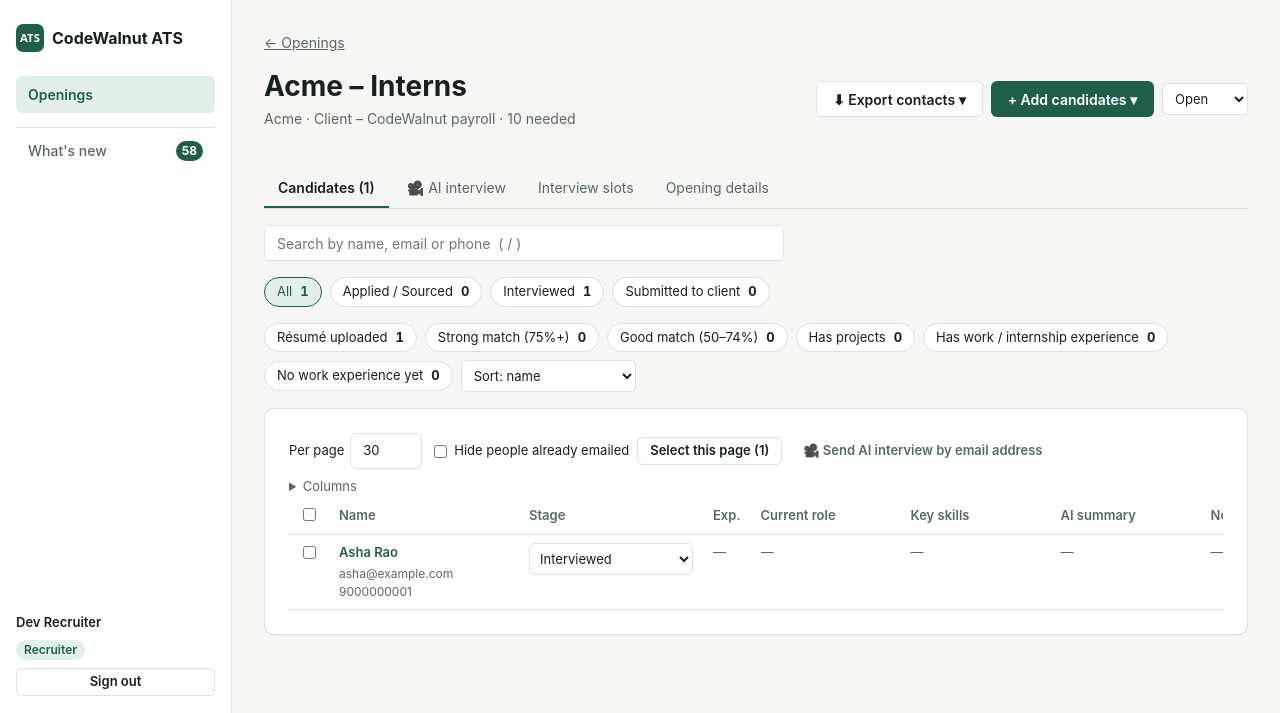
it: JobDetailPage › offers to email the candidate after a stage change, with the matching template
This screenshot has width=1280, height=713.
Select "Rejected" in the dropdown named "Stage for Asha Rao" at (611, 559), box [529,543,693,575]
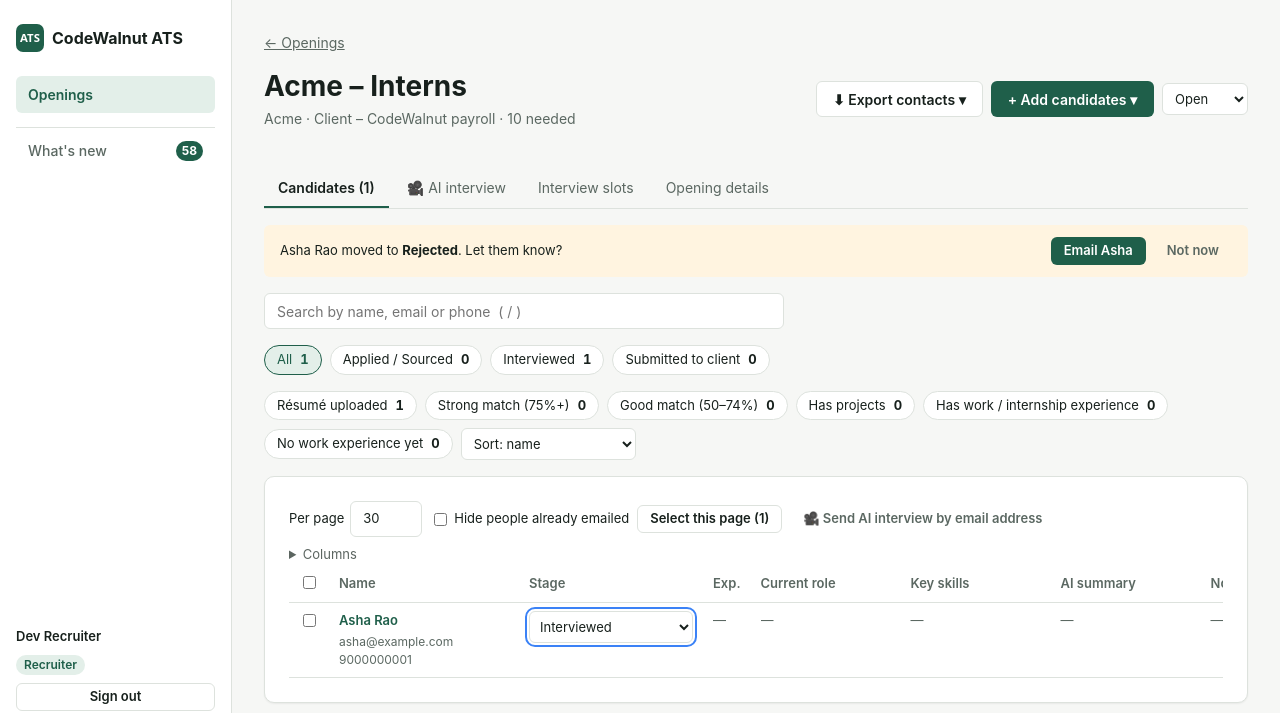
expect the text "Asha Rao moved to Rejected. Let them know?" is shown: met, box [280,241,562,261]
Click the button "Email Asha".
click(1098, 251)  # box [1051,237,1146,265]
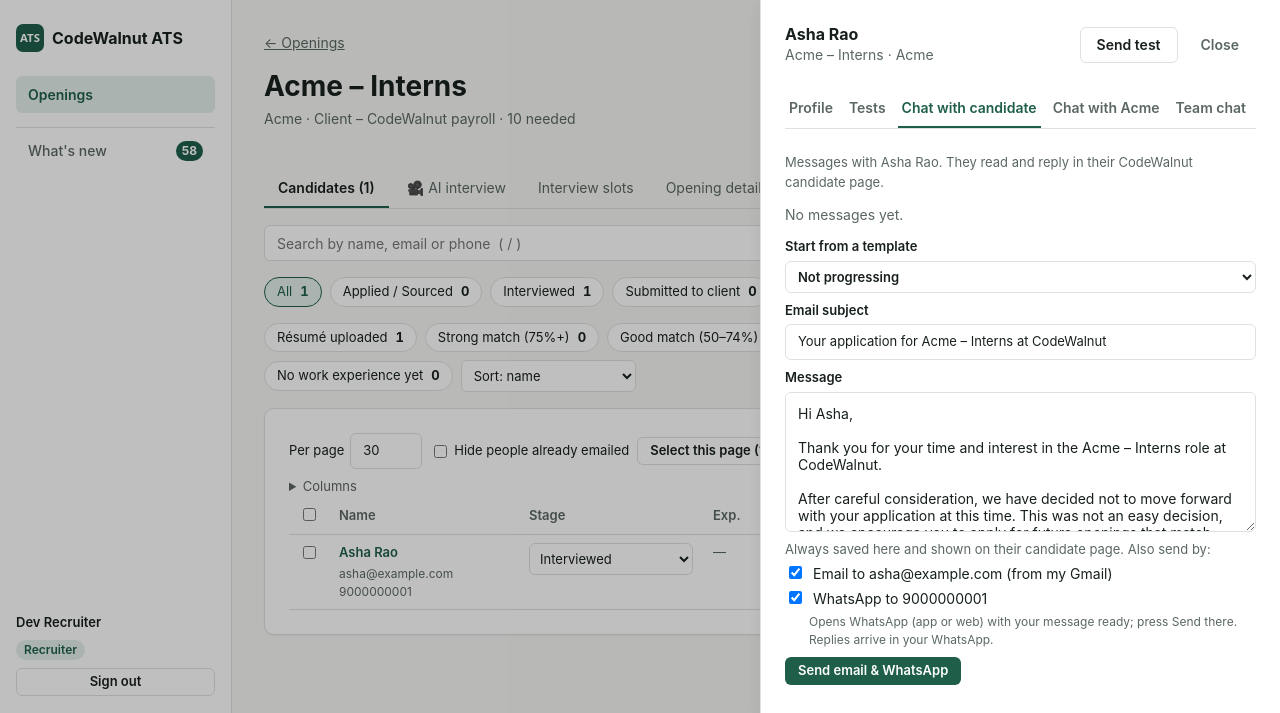
expect the field labelled "Email subject" holds "Your application for Acme – Interns at CodeWalnut": met, box [785,324,1256,360]
Click the button "Send email & WhatsApp".
click(873, 671)  # box [785,657,961,685]
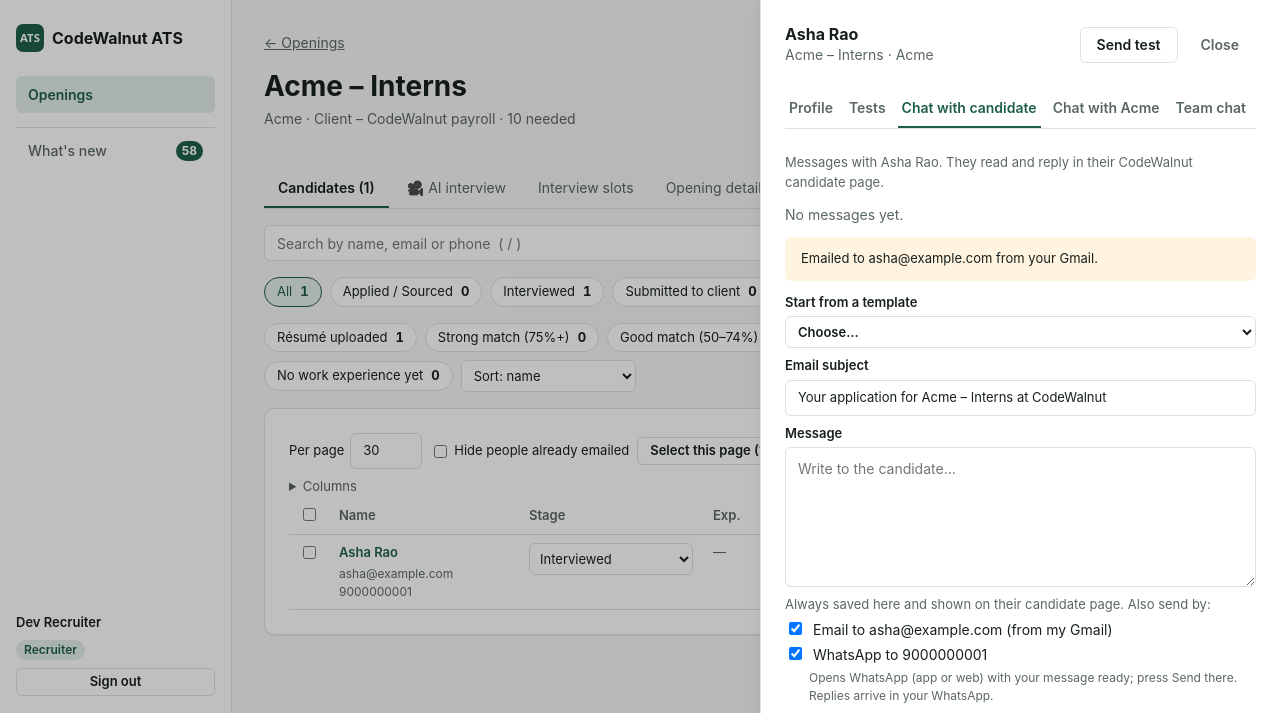
expect the text "Emailed to asha@example.com from your Gmail." is shown: met, box [785,237,1256,280]
